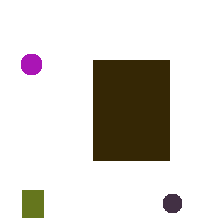circle: (21, 54, 41, 74), (163, 194, 181, 212)
rectangle: (93, 60, 169, 160), (22, 190, 43, 217)
